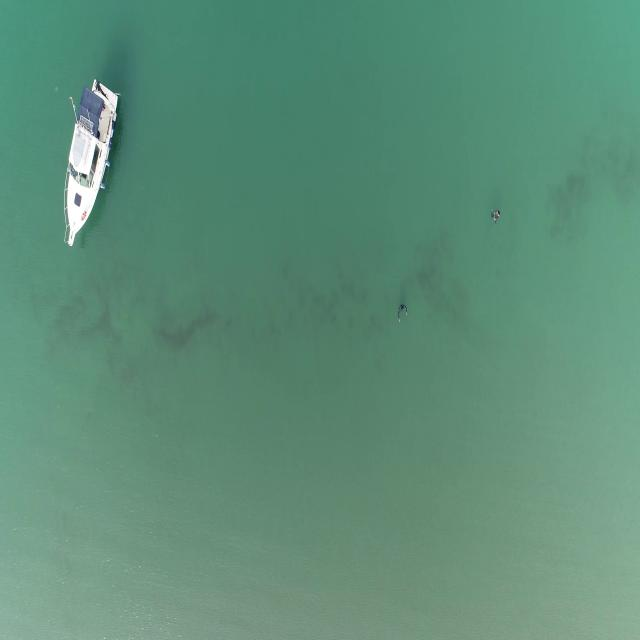boat: (59, 75, 120, 250)
person: (490, 204, 502, 232), (396, 302, 410, 325)
